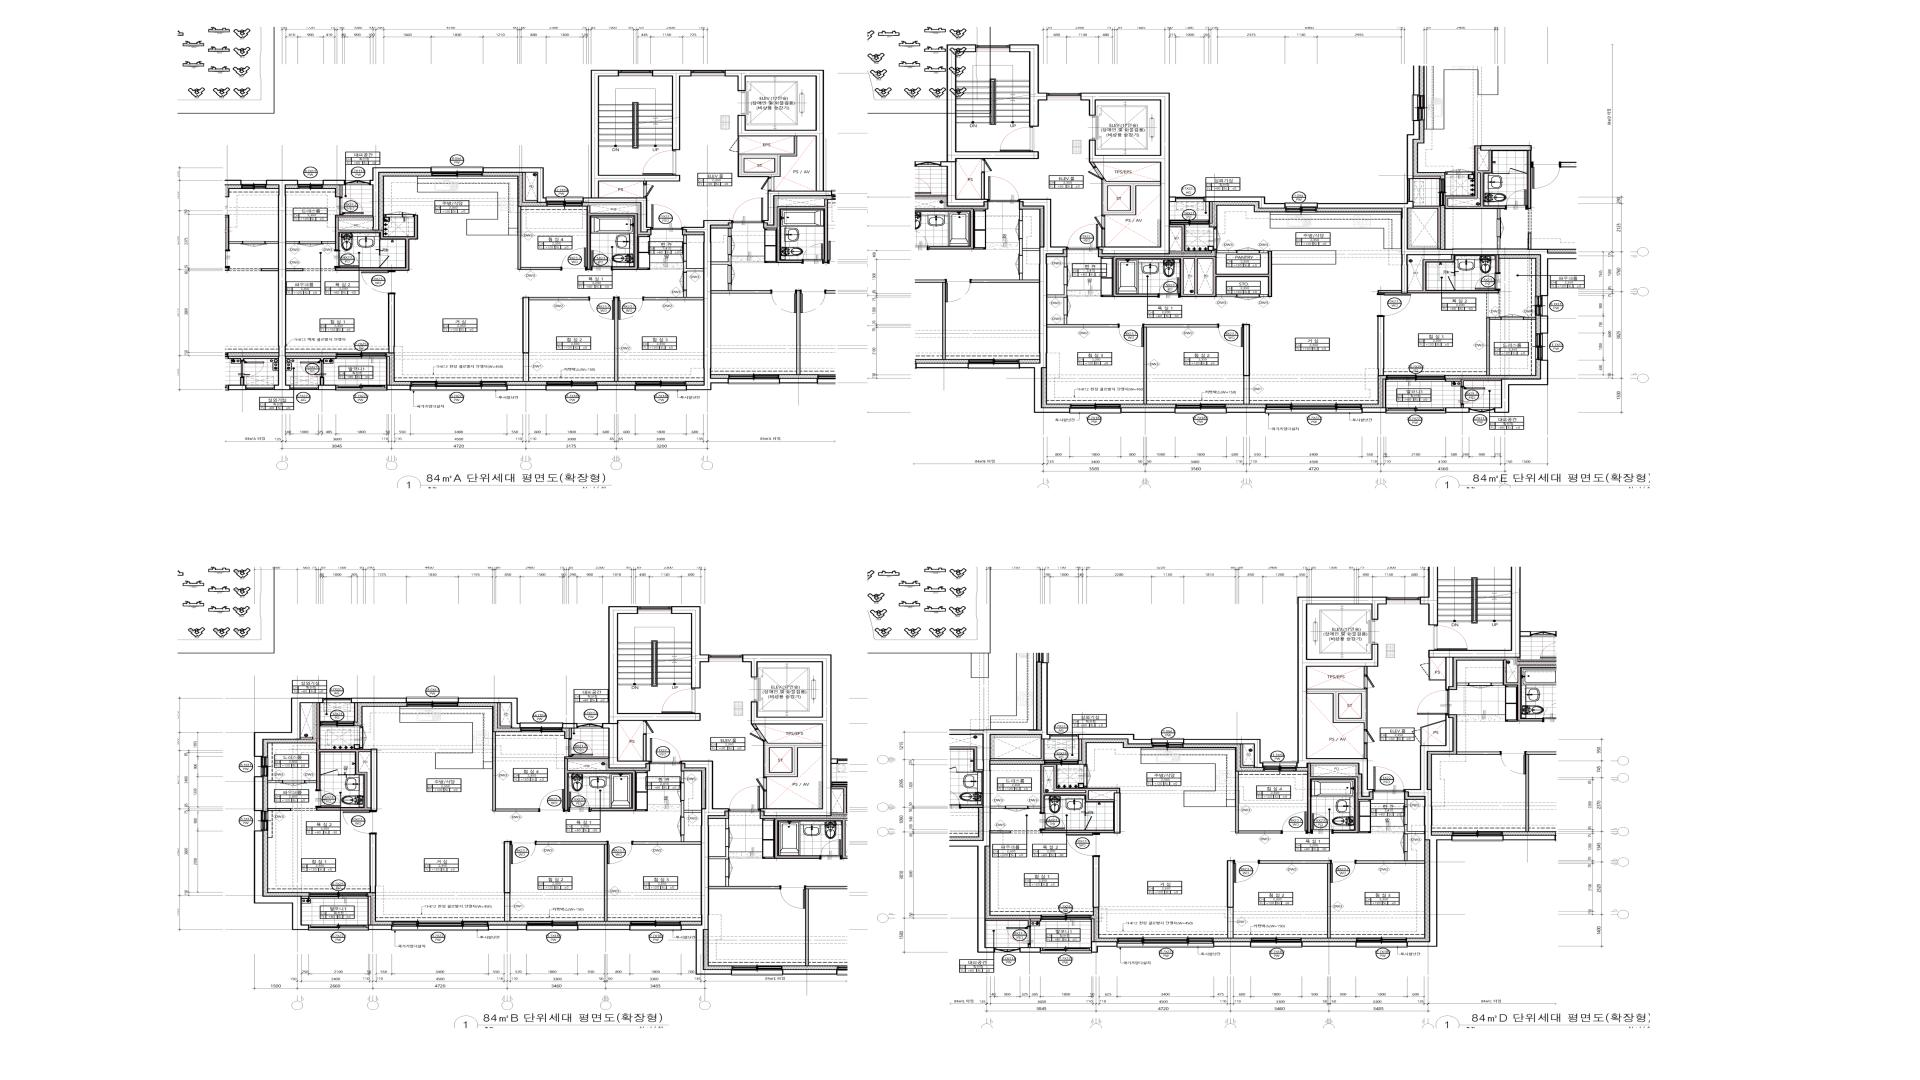door: (662, 688, 696, 713), (642, 150, 676, 175), (1000, 127, 1034, 152), (651, 202, 682, 229), (1373, 766, 1404, 793), (1435, 625, 1468, 650), (650, 738, 680, 765), (1067, 833, 1100, 857), (343, 811, 377, 833), (361, 272, 396, 294), (1377, 294, 1411, 316), (1068, 224, 1098, 249), (1233, 860, 1261, 884), (617, 297, 645, 320), (607, 841, 633, 865), (1331, 860, 1357, 884), (589, 297, 615, 320), (510, 841, 537, 864), (1118, 324, 1145, 347), (539, 790, 564, 812), (1282, 811, 1307, 833), (562, 248, 587, 270), (1217, 324, 1242, 347), (1039, 812, 1065, 831), (568, 791, 591, 812), (568, 738, 593, 757), (334, 249, 359, 268), (1461, 386, 1486, 405), (1158, 278, 1180, 298), (315, 790, 340, 807), (1006, 927, 1031, 944), (339, 198, 364, 215), (1476, 273, 1501, 290), (1312, 814, 1333, 833), (591, 251, 612, 270), (299, 361, 323, 377), (748, 729, 766, 745), (1087, 167, 1105, 182), (729, 136, 740, 154), (1213, 227, 1221, 251), (756, 777, 767, 791), (1364, 729, 1375, 744), (1093, 215, 1105, 229), (981, 158, 993, 173), (644, 182, 654, 198), (1364, 675, 1375, 688), (761, 177, 771, 191), (1084, 765, 1091, 787), (360, 727, 367, 749), (1006, 806, 1029, 812), (1237, 294, 1259, 301), (1502, 314, 1524, 320), (644, 721, 654, 735), (378, 255, 389, 268), (320, 769, 339, 775), (299, 241, 322, 247), (1237, 248, 1259, 253), (1084, 815, 1092, 829), (1448, 276, 1456, 290), (284, 781, 305, 786)
wall: (1316, 203, 1548, 297), (1298, 596, 1387, 796), (725, 70, 832, 225), (977, 731, 1051, 953), (583, 70, 680, 232), (603, 607, 700, 769), (1080, 92, 1176, 255), (945, 45, 1039, 207), (742, 655, 831, 816), (1428, 543, 1522, 690), (1404, 715, 1455, 947), (1019, 199, 1071, 413), (680, 761, 732, 975), (682, 220, 733, 390), (1113, 251, 1273, 297), (266, 179, 298, 390), (1143, 324, 1217, 405), (316, 703, 371, 811), (537, 841, 608, 922), (522, 297, 589, 381), (255, 831, 309, 930), (1261, 861, 1331, 938), (335, 215, 418, 272), (253, 698, 323, 757), (369, 167, 431, 231), (1040, 765, 1121, 812), (492, 732, 539, 811), (564, 760, 636, 811), (1307, 764, 1358, 833), (1407, 256, 1498, 294), (587, 206, 638, 270), (651, 70, 691, 150), (671, 605, 709, 688), (1009, 45, 1047, 127), (1420, 543, 1458, 625), (1236, 771, 1282, 833), (1494, 360, 1548, 413), (518, 207, 562, 270), (1308, 688, 1367, 729), (1183, 738, 1263, 767), (483, 167, 546, 203), (764, 740, 822, 777), (1101, 179, 1160, 215), (459, 698, 521, 728), (1170, 224, 1212, 253), (990, 740, 1044, 761), (1042, 767, 1085, 793), (1204, 196, 1286, 208), (1486, 316, 1502, 376), (1047, 315, 1118, 328), (1357, 852, 1424, 864), (1077, 735, 1153, 745), (1242, 324, 1250, 405), (1420, 720, 1445, 745), (645, 290, 704, 301), (1226, 860, 1234, 939), (633, 836, 700, 845), (1197, 258, 1213, 294), (1338, 694, 1361, 719), (504, 841, 510, 922), (522, 173, 537, 203), (371, 749, 377, 811), (1092, 857, 1100, 907), (388, 294, 394, 353), (369, 835, 376, 894), (253, 777, 264, 811), (680, 800, 702, 818), (1429, 658, 1445, 680), (497, 703, 510, 728), (615, 298, 618, 381), (1240, 745, 1254, 767), (1091, 942, 1117, 953), (1461, 378, 1501, 386), (1378, 316, 1383, 376), (351, 698, 407, 703), (986, 919, 1031, 926), (1040, 829, 1114, 833), (1302, 942, 1357, 947), (1121, 407, 1175, 413), (576, 924, 630, 930), (1114, 793, 1121, 833), (286, 356, 336, 361), (1047, 285, 1067, 298), (683, 261, 703, 273), (506, 385, 547, 390), (488, 924, 527, 930), (1226, 407, 1266, 413), (597, 385, 636, 390), (1213, 942, 1251, 947), (1404, 825, 1424, 835), (1019, 947, 1042, 953), (1540, 315, 1548, 334), (386, 385, 411, 390), (1445, 407, 1470, 413), (1362, 407, 1387, 413), (368, 924, 392, 930), (386, 356, 390, 385), (564, 757, 608, 760), (1077, 740, 1083, 761), (1382, 380, 1386, 407), (642, 735, 646, 761), (981, 173, 985, 199), (318, 385, 336, 390), (335, 215, 372, 218), (1378, 290, 1402, 294), (1091, 919, 1095, 942), (323, 181, 345, 185), (1209, 202, 1213, 224), (562, 723, 578, 728), (353, 703, 357, 723), (368, 897, 371, 924), (1495, 255, 1499, 273), (764, 791, 767, 808), (1101, 229, 1105, 247), (268, 808, 291, 811), (1445, 378, 1461, 382), (1364, 744, 1367, 758), (990, 831, 1011, 833), (1216, 251, 1237, 253), (1217, 294, 1237, 297), (339, 186, 343, 198), (680, 771, 684, 783), (1524, 316, 1536, 320), (286, 269, 303, 272), (319, 377, 324, 385), (268, 781, 284, 783), (990, 806, 1006, 808), (1089, 162, 1097, 167), (683, 235, 687, 244), (568, 729, 572, 738), (286, 241, 299, 244), (322, 241, 335, 244), (1364, 667, 1367, 675), (1404, 799, 1408, 807), (1029, 806, 1040, 808), (305, 781, 316, 783), (301, 737, 313, 740), (1031, 919, 1042, 922), (1064, 257, 1067, 268), (752, 725, 758, 729), (1259, 251, 1269, 253), (1259, 294, 1267, 297), (302, 897, 309, 899), (1101, 295, 1113, 297), (1101, 257, 1113, 258), (1027, 944, 1031, 947), (1461, 405, 1464, 407)
window: (392, 920, 488, 931), (1117, 938, 1213, 948), (1266, 404, 1362, 414), (411, 381, 506, 392), (407, 696, 459, 707), (431, 166, 483, 177), (1175, 404, 1226, 414), (1251, 938, 1302, 948), (630, 920, 680, 931), (1357, 938, 1407, 948), (636, 381, 686, 392), (1071, 404, 1121, 414), (547, 381, 596, 392), (527, 922, 578, 931), (520, 723, 563, 732), (309, 924, 368, 931), (309, 893, 368, 899), (1386, 375, 1445, 381), (546, 196, 583, 207), (1387, 407, 1445, 414), (1535, 334, 1548, 360), (1040, 947, 1091, 953), (336, 352, 386, 359), (336, 385, 386, 392), (1042, 915, 1091, 922), (1263, 762, 1298, 771), (1153, 738, 1183, 748), (1286, 203, 1316, 212), (709, 654, 742, 662), (255, 811, 268, 831), (255, 757, 268, 777), (1047, 92, 1080, 100), (1535, 297, 1548, 315), (638, 607, 671, 613), (1458, 543, 1491, 550), (1387, 597, 1420, 604), (976, 45, 1009, 51), (1170, 219, 1209, 224), (298, 181, 323, 189), (1044, 760, 1079, 765), (320, 721, 355, 727), (323, 698, 351, 703), (290, 385, 318, 390), (1176, 196, 1204, 202), (1051, 735, 1077, 740), (996, 947, 1019, 952), (578, 723, 601, 728), (1470, 407, 1494, 413), (345, 181, 369, 185)
